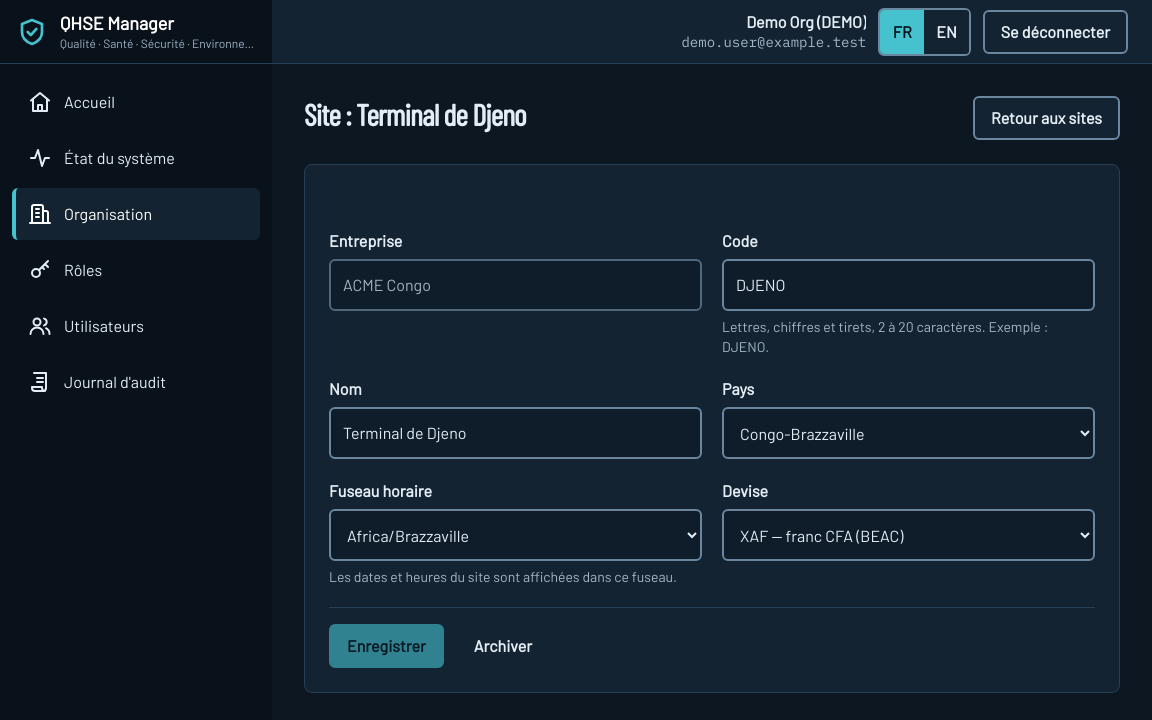
Scenario: organisation forms › edits a record sending only what changed with the version, and explains a conflict
Check: the field labelled "Entreprise" is disabled, box [329, 259, 702, 311]
Check: the field labelled "Entreprise" holds "ACME Congo", box [329, 259, 702, 311]
Replace the text in the field labelled "Nom" with "Terminal Djeno Nord" at [516, 433], box [329, 407, 702, 459]
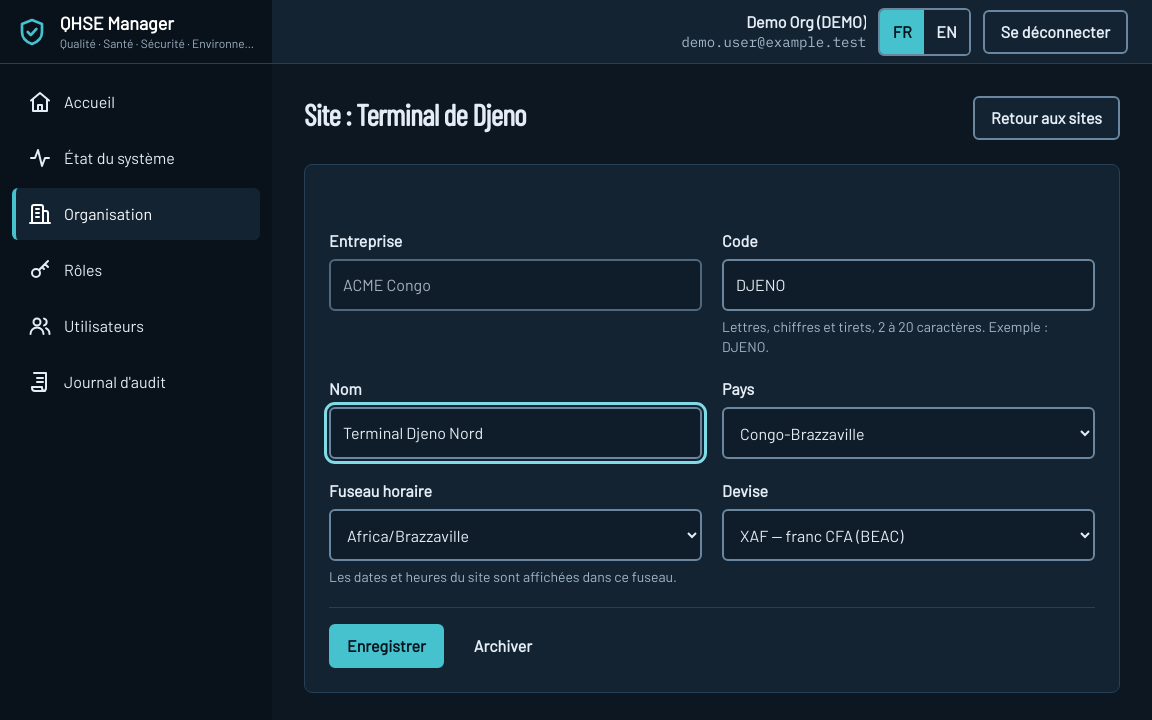
Click the button "Enregistrer".
click(386, 646)  # box [329, 624, 444, 668]
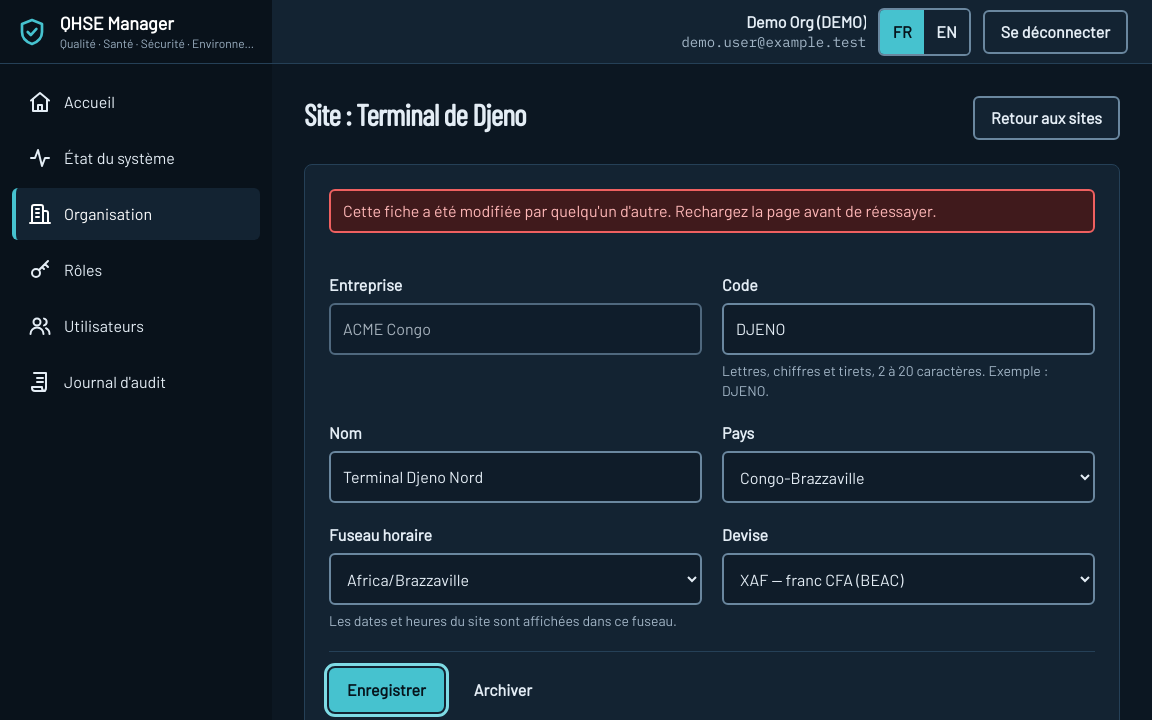
Check: the text "Cette fiche a été modifiée par quelqu'un d'autre. Rechargez la page avant de réessayer." is shown, box [343, 201, 937, 220]
